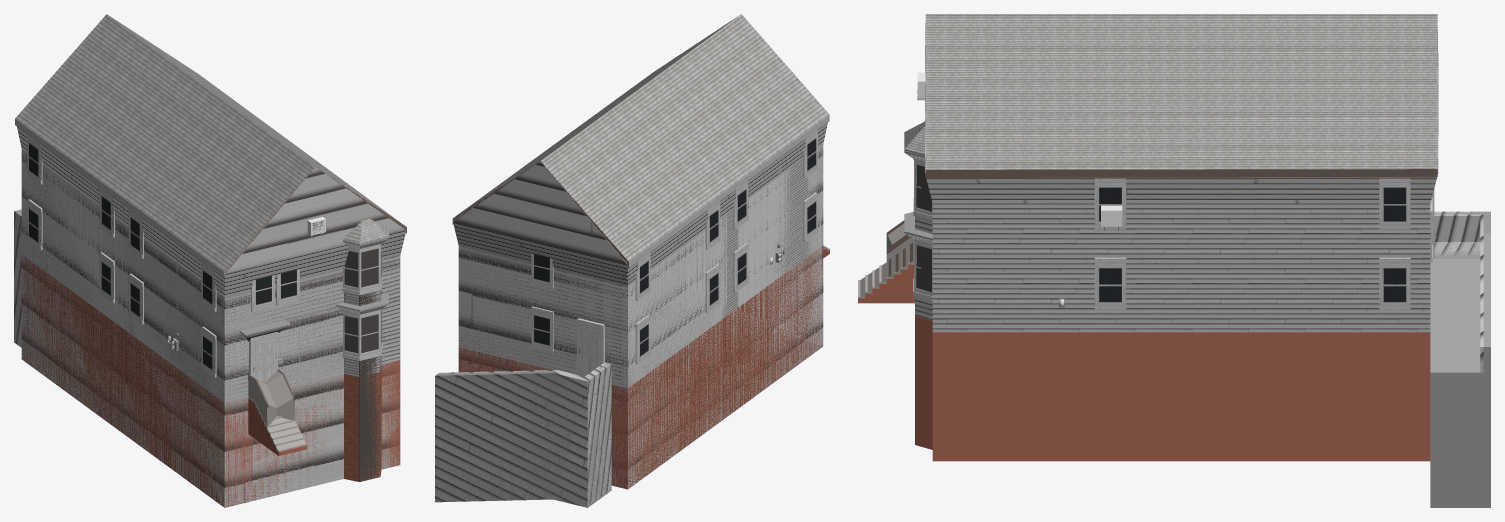
File: eca_bld_house_05_b.dae
3 views of the same model, side by side, from view 1: azimuth 30°, elevation 25°; view 2: azimuth 150°, elevation 25°; view 3: azimuth 270°, elevation 25° (orthographic). The views are drawn at different scales.
Visible parts, largest first — view 1: eca_bld_house_05_b_a800, Colmesh-1, eca_bld_house_05_b_a350, eca_bld_house_05_b_a20; view 2: eca_bld_house_05_b_a800, Colmesh-1, eca_bld_house_05_b_a350, eca_bld_house_05_b_a20; view 3: eca_bld_house_05_b_a350, Colmesh-1, eca_bld_house_05_b_a800.
Boxes of the visible parts, x1,y1,x2,y2 form: eca_bld_house_05_b_a800: (14, 14, 405, 507); Colmesh-1: (14, 127, 406, 507); eca_bld_house_05_b_a350: (14, 15, 406, 507); eca_bld_house_05_b_a20: (21, 149, 388, 506); eca_bld_house_05_b_a800: (435, 14, 829, 507); Colmesh-1: (435, 122, 829, 507); eca_bld_house_05_b_a350: (435, 16, 817, 505); eca_bld_house_05_b_a20: (459, 145, 823, 485); eca_bld_house_05_b_a350: (858, 14, 1490, 507); Colmesh-1: (860, 23, 1483, 372); eca_bld_house_05_b_a800: (858, 90, 1487, 307).
Size of the model in its own units: 7.6 by 17.8 by 13.7.
